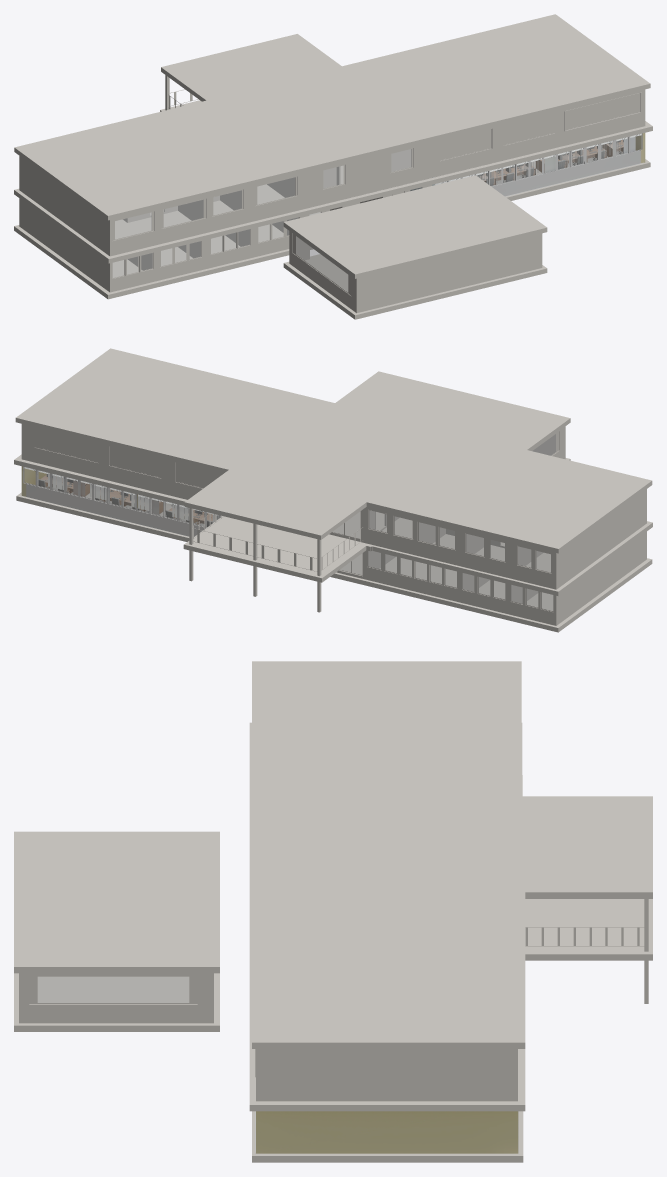
File: founder_space_walk.glb
3 views of the same model, one above another, from view 1: azimuth 30°, elevation 25°; view 2: azimuth 150°, elevation 25°; view 3: azimuth 270°, elevation 25° (orthographic). The views are drawn at different scales.
Parts seen in each view (by area): view 1: BEYOND_L2_SLAB, UPPER_in_zone, BEYOND_L0_WALL, BEYOND_L1_WALL, BEYOND_L0_SLAB, BEYOND_L1_SLAB, BEYOND_L1_GLASS, BEYOND_L0_GLASS, BAKE_wall_south, GLASS_zone, BAKE_furn_a, BAKE_furn_b (+3 smaller); view 2: BEYOND_L2_SLAB, UPPER_in_zone, BEYOND_L1_SLAB, BEYOND_L1_WALL, BEYOND_L0_WALL, BEYOND_L0_SLAB, BAKE_wall_north, BEYOND_L0_GLASS, BEYOND_L1_GLASS, GLASS_zone, BAKE_furn_b, BAKE_furn_a (+6 smaller); view 3: BEYOND_L2_SLAB, UPPER_in_zone, BEYOND_L1_SLAB, BEYOND_L0_SLAB, BAKE_wall_north, BEYOND_L0_WALL, BAKE_wall_south, BEYOND_L0_GLASS, BEYOND_L0_FRAME.
Boxes of the visible parts, x1,y1,x2,y2 form: BEYOND_L2_SLAB: [14, 14, 650, 278]; UPPER_in_zone: [341, 16, 645, 178]; BEYOND_L0_WALL: [19, 178, 542, 313]; BEYOND_L1_WALL: [19, 141, 431, 256]; BEYOND_L0_SLAB: [14, 159, 650, 319]; BEYOND_L1_SLAB: [14, 100, 652, 263]; BEYOND_L1_GLASS: [115, 149, 411, 238]; BEYOND_L0_GLASS: [113, 187, 421, 291]; BAKE_wall_south: [410, 133, 645, 196]; GLASS_zone: [436, 134, 641, 185]; BAKE_furn_a: [477, 140, 623, 185]; BAKE_furn_b: [435, 133, 641, 184]; BEYOND_L2_SLAB: [15, 348, 652, 553]; UPPER_in_zone: [21, 350, 325, 499]; BEYOND_L1_SLAB: [14, 454, 652, 596]; BEYOND_L1_WALL: [329, 489, 646, 589]; BEYOND_L0_WALL: [336, 426, 646, 625]; BEYOND_L0_SLAB: [16, 458, 652, 632]; BAKE_wall_north: [21, 466, 220, 536]; BEYOND_L0_GLASS: [340, 434, 555, 610]; BEYOND_L1_GLASS: [333, 510, 550, 572]; GLASS_zone: [24, 467, 217, 526]; BAKE_furn_b: [24, 467, 222, 522]; BAKE_furn_a: [38, 474, 214, 526]; BEYOND_L2_SLAB: [14, 661, 652, 1048]; UPPER_in_zone: [255, 890, 518, 1101]; BEYOND_L1_SLAB: [249, 722, 652, 1111]; BEYOND_L0_SLAB: [14, 775, 523, 1162]; BAKE_wall_north: [256, 1111, 518, 1153]; BEYOND_L0_WALL: [19, 973, 213, 1023]; BAKE_wall_south: [256, 1111, 466, 1153]; BEYOND_L0_GLASS: [38, 977, 188, 1002]; BEYOND_L0_FRAME: [29, 976, 197, 1003].
Bounding box in the file's own units: 38.22 × 5.6 × 27.
11 materials, 8 textured.
